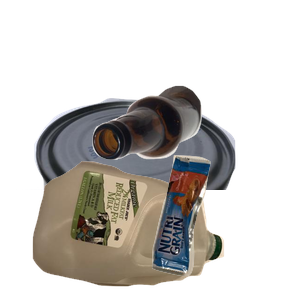glass: (90, 83, 300, 235)
metal: (16, 96, 244, 276)
plastic: (30, 159, 247, 300)
trash: (149, 152, 300, 300)
